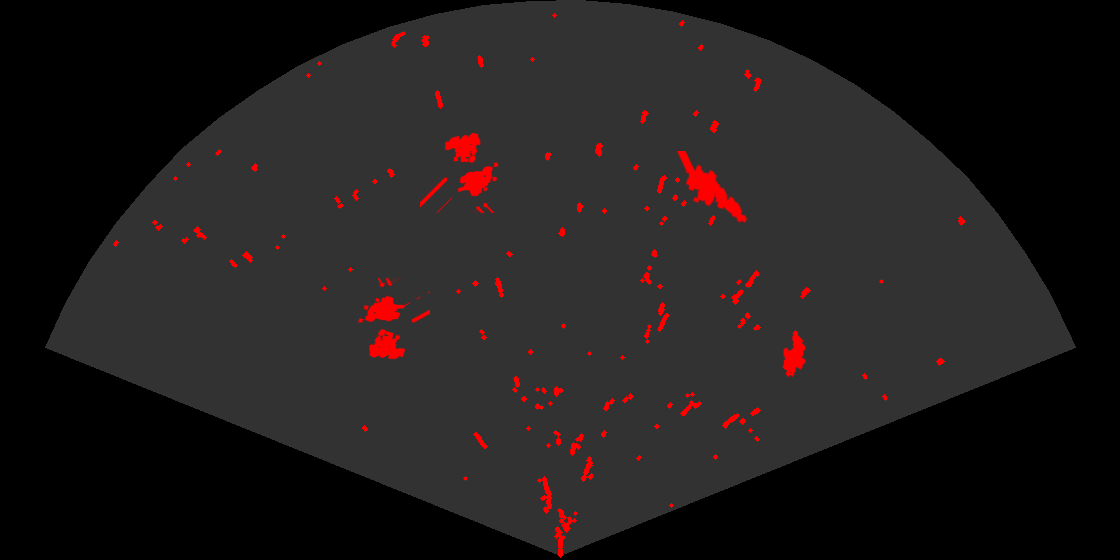AUV: (781, 328, 807, 379)
cage: (420, 131, 500, 213), (356, 278, 430, 361)
frogman: (675, 151, 749, 224)
